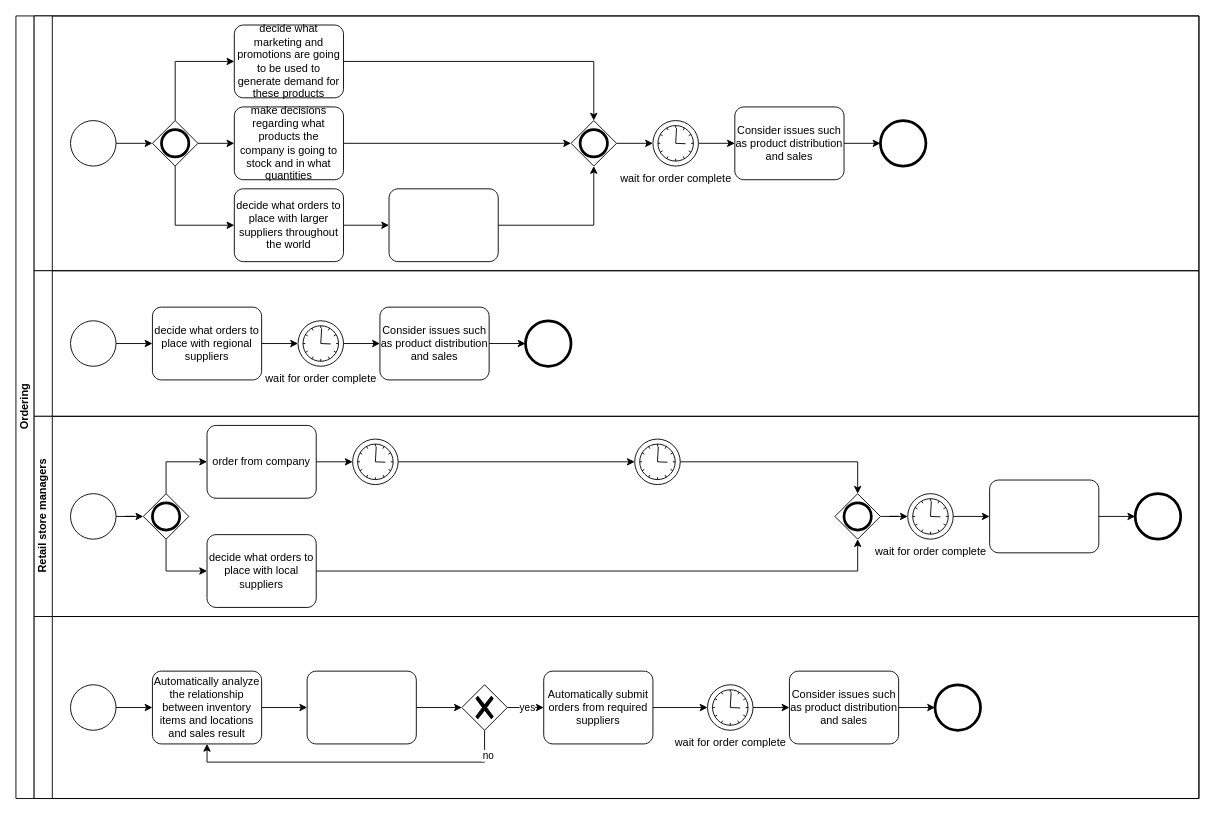
Some shapes in this 1215 by 814 pixel diagram are drawn without their labels. The box of each missing label's shape, as (x1, y1, x2, y2) in pixels:
Country level managers: (33, 270, 1199, 416)
Deliveries from these suppliers is coordinated using logistics service providers: (388, 188, 498, 262)
Draw conclusions about the need for replenishment: (306, 670, 416, 744)
Management at company headquarters: (33, 15, 1199, 271)
sell the goods: (989, 479, 1099, 553)
wait for goods to be delivered from distribution centres: (634, 438, 680, 485)
wait for goods to be delivered from the central warehouse: (352, 438, 398, 485)
Warehouse Management System: (33, 616, 1199, 799)
